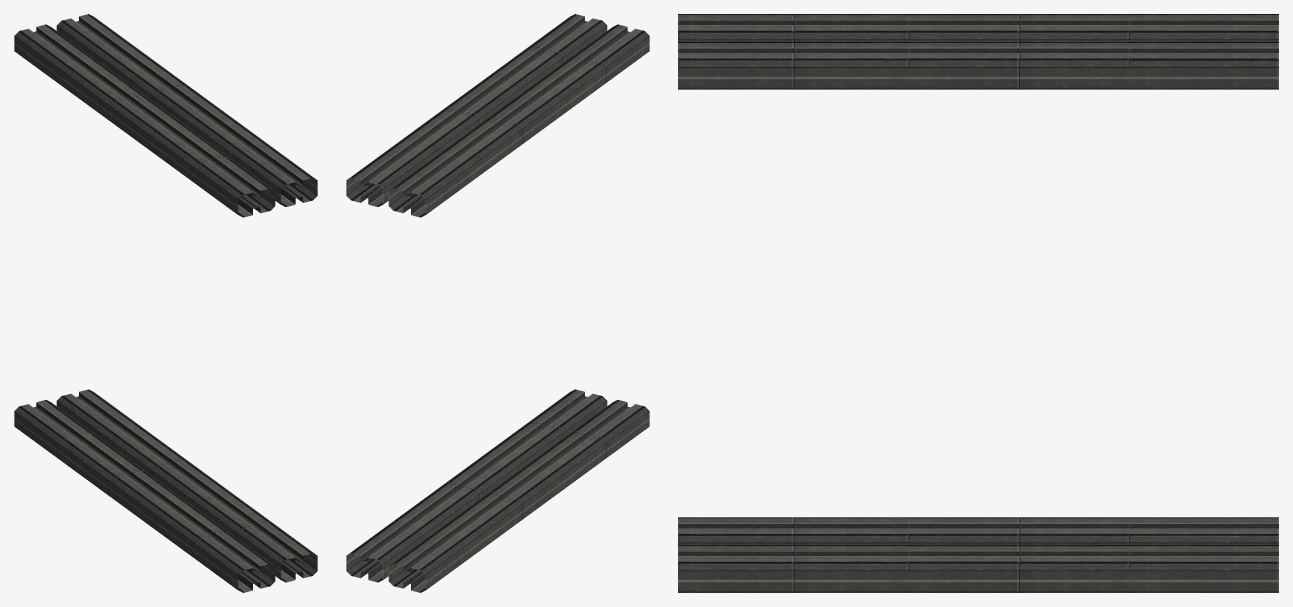
Rendered from TallWindowFrame_1x4.FBX.
3 views of the same model, side by side, from view 1: azimuth 30°, elevation 25°; view 2: azimuth 150°, elevation 25°; view 3: azimuth 270°, elevation 25° (orthographic). The views are drawn at different scales.
Parts seen in each view (by area): view 1: TallWindowFrame_1x4; view 2: TallWindowFrame_1x4; view 3: TallWindowFrame_1x4.
Boxes of the visible parts, box(x1,y1,x2,y2) form: TallWindowFrame_1x4: box(14, 14, 317, 592); TallWindowFrame_1x4: box(346, 14, 649, 592); TallWindowFrame_1x4: box(678, 14, 1278, 592).
Bounding box in the file's own units: 0.8183 × 3.92 × 4.
